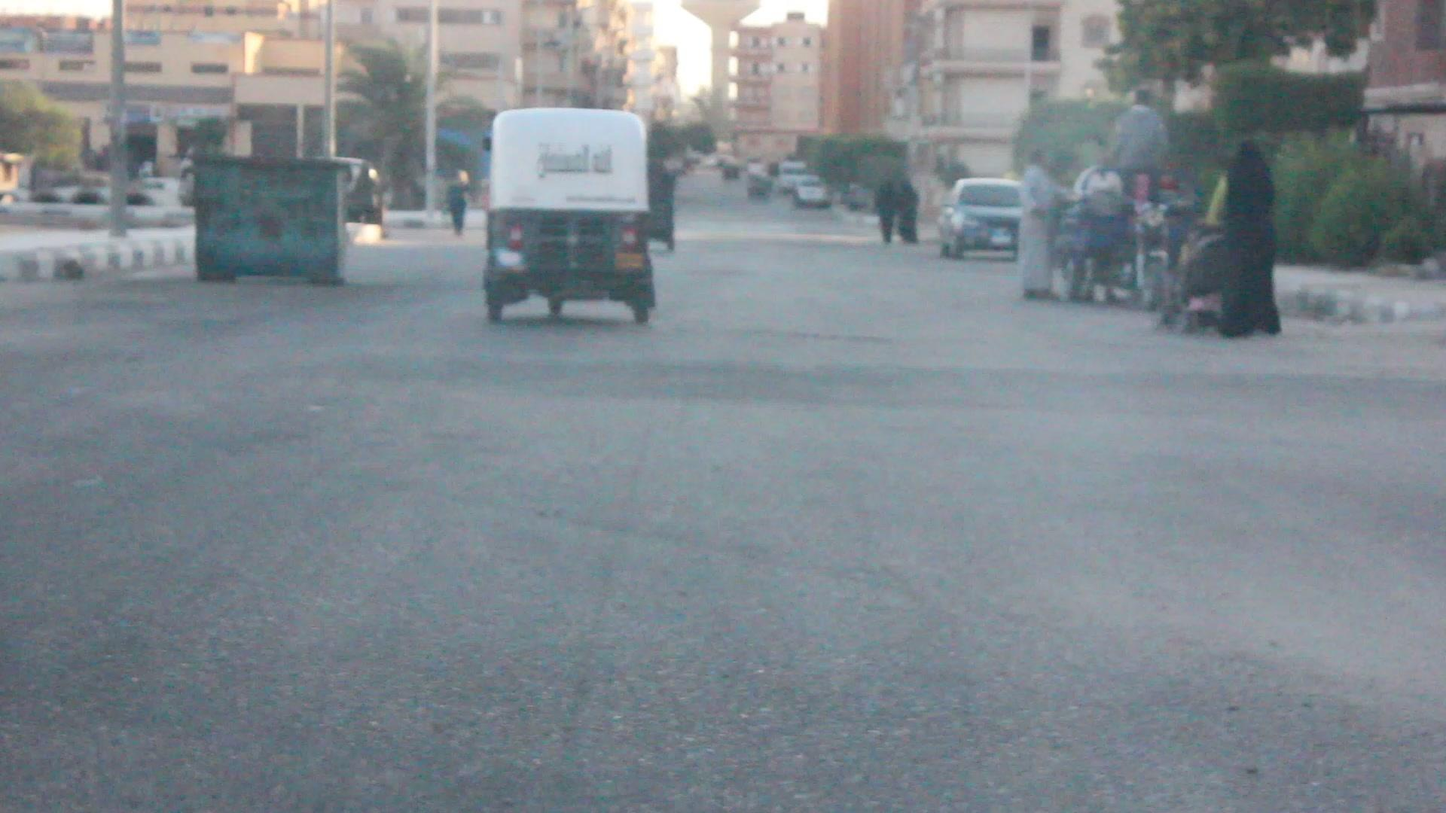Bump: (13, 352, 1446, 422)
